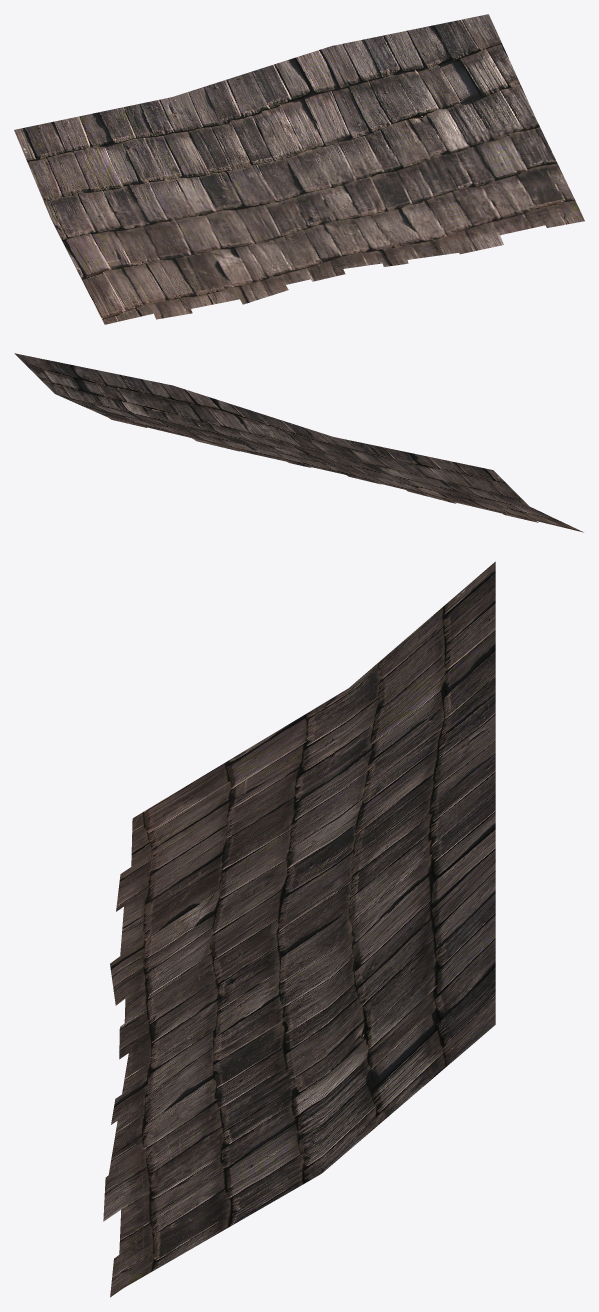
Rendered from roof_upper_right.fbx.
3 views of the same model, one above another, from view 1: azimuth 30°, elevation 25°; view 2: azimuth 150°, elevation 25°; view 3: azimuth 270°, elevation 25° (orthographic). The views are drawn at different scales.
Visible parts, largest first — view 1: polySurface305; view 2: polySurface305; view 3: polySurface305.
Boxes of the visible parts, x1,y1,x2,y2 form: polySurface305: [14, 14, 584, 324]; polySurface305: [14, 353, 583, 532]; polySurface305: [103, 561, 495, 1297].
Size of the model in its own units: 961 by 279 by 341.
